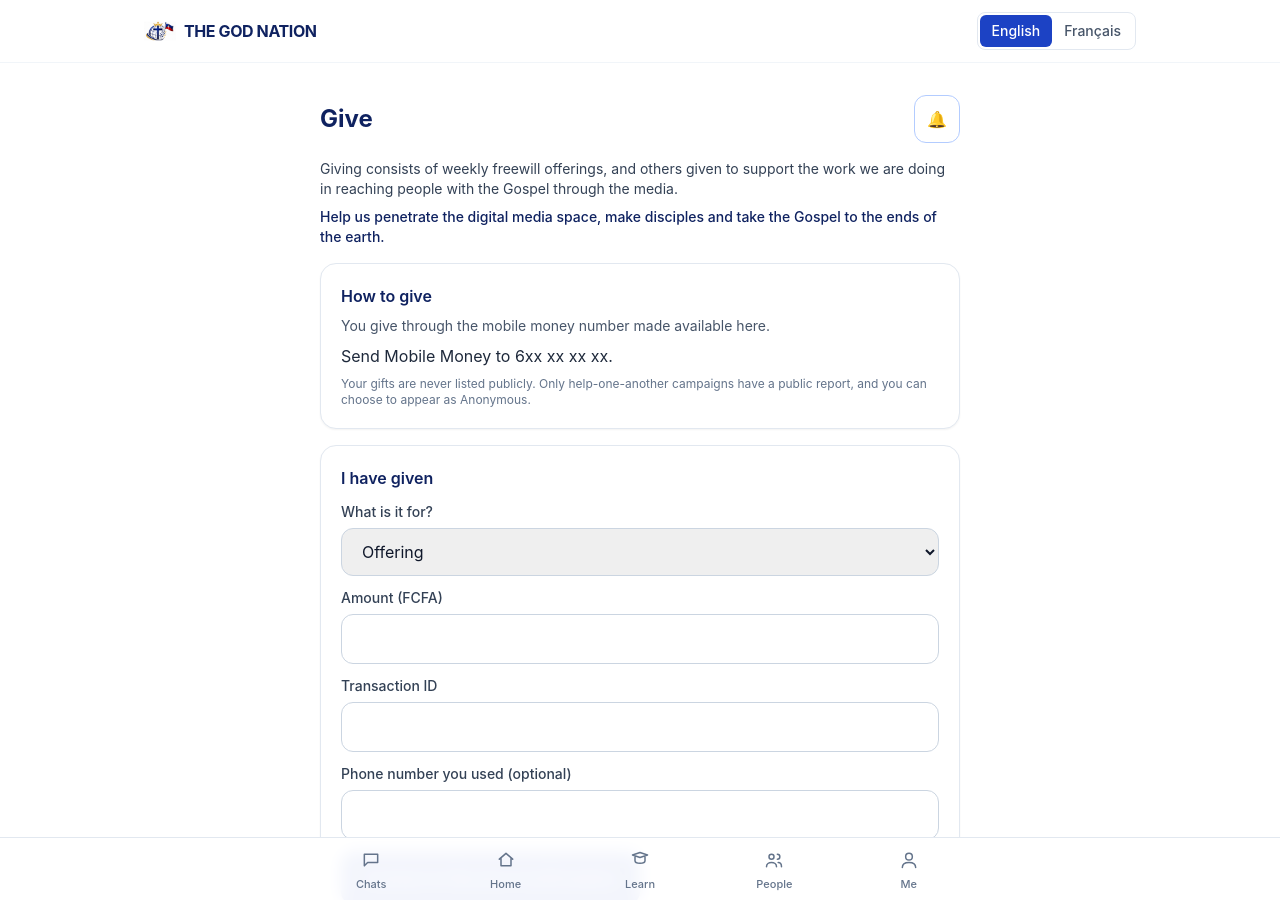
MemberGivePage — what it says › sends a new category, such as Seed Faith
Select "Seed Faith" in the dropdown labelled "What is it for?". click: (640, 552)
box: [341,528,939,576]
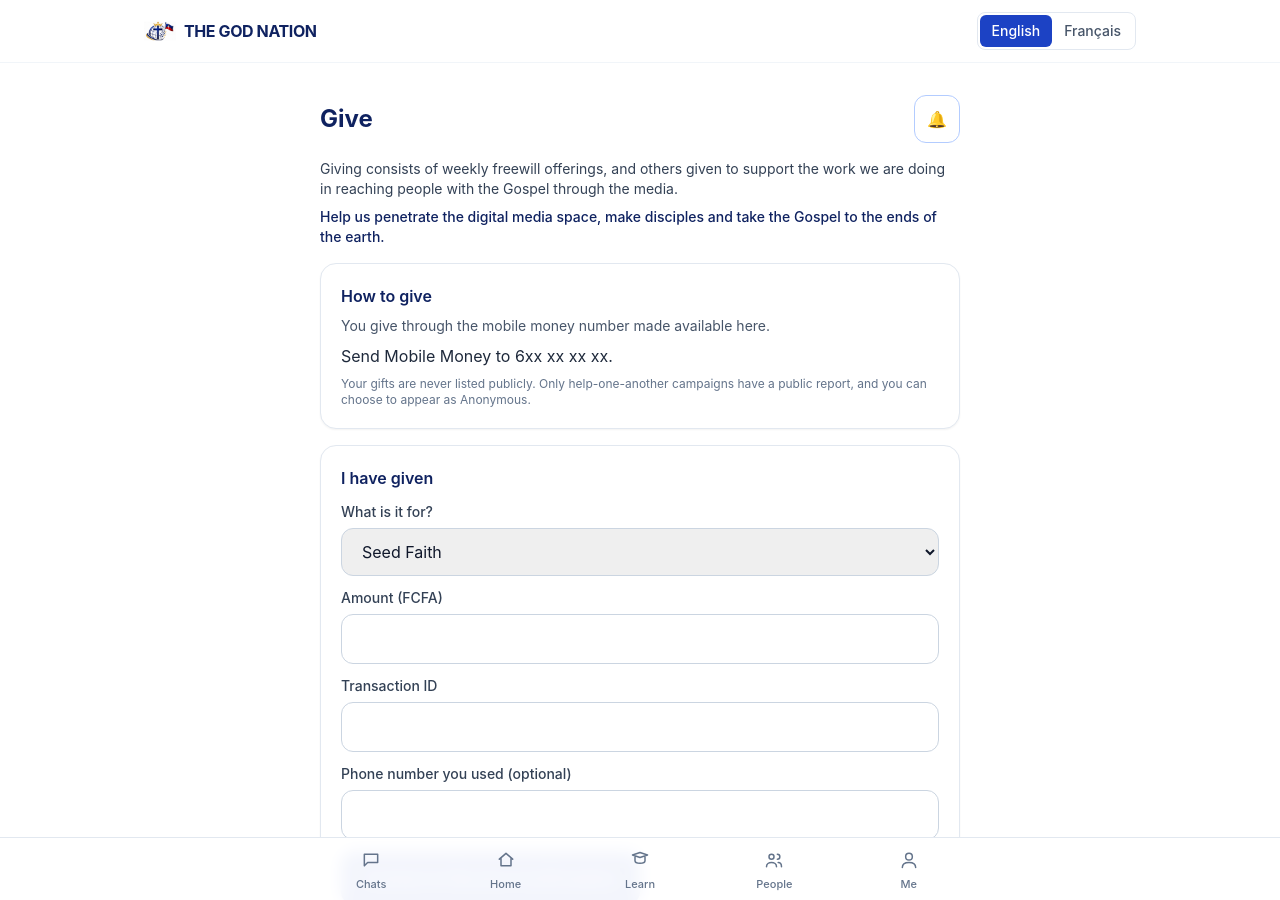
Type "2000" into the number field labelled "Amount (FCFA)". click: (640, 639)
box: [341,614,939,664]
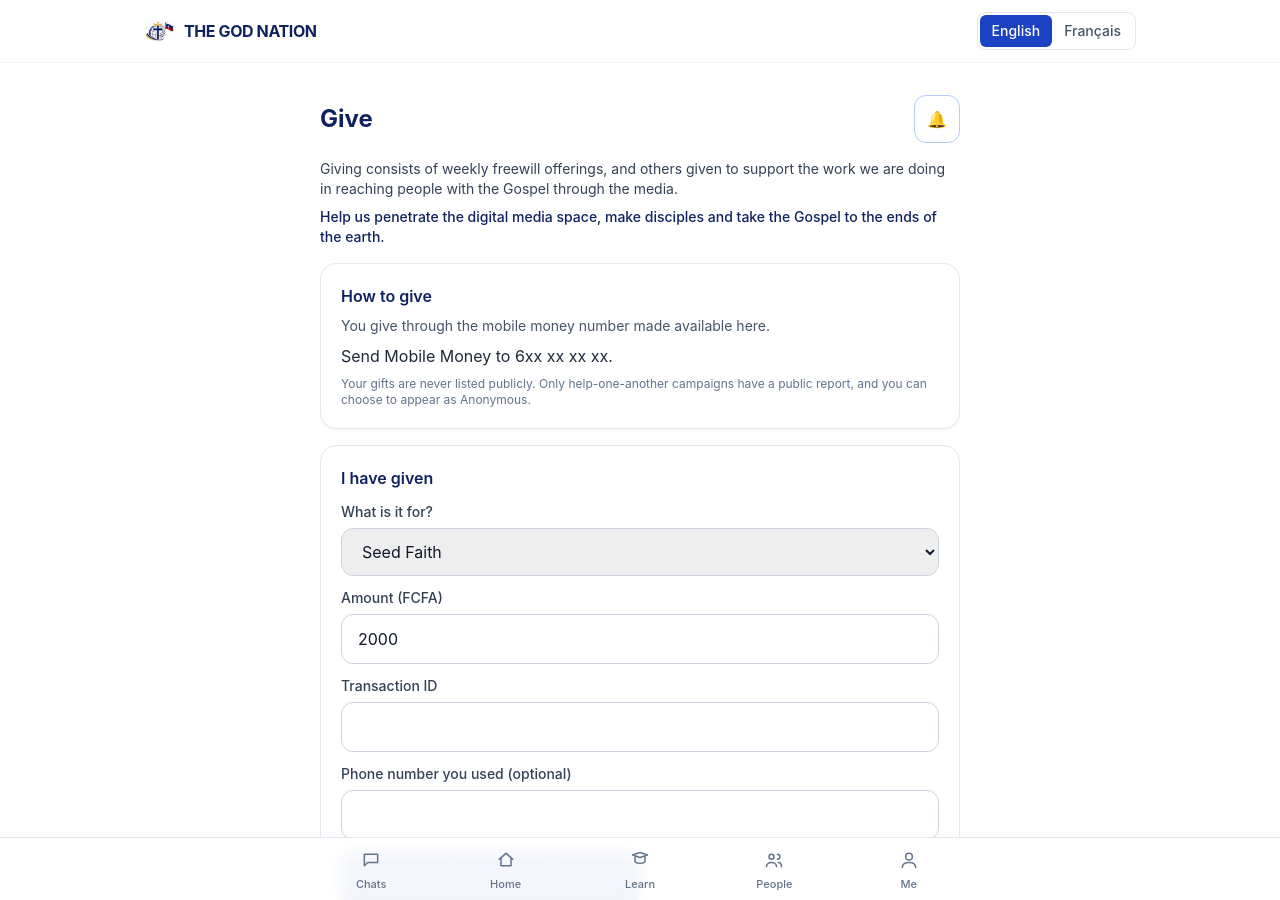
Type "MP555555" into the field labelled "Transaction ID". click: (640, 727)
box: [341,702,939,752]
(page scrolled)
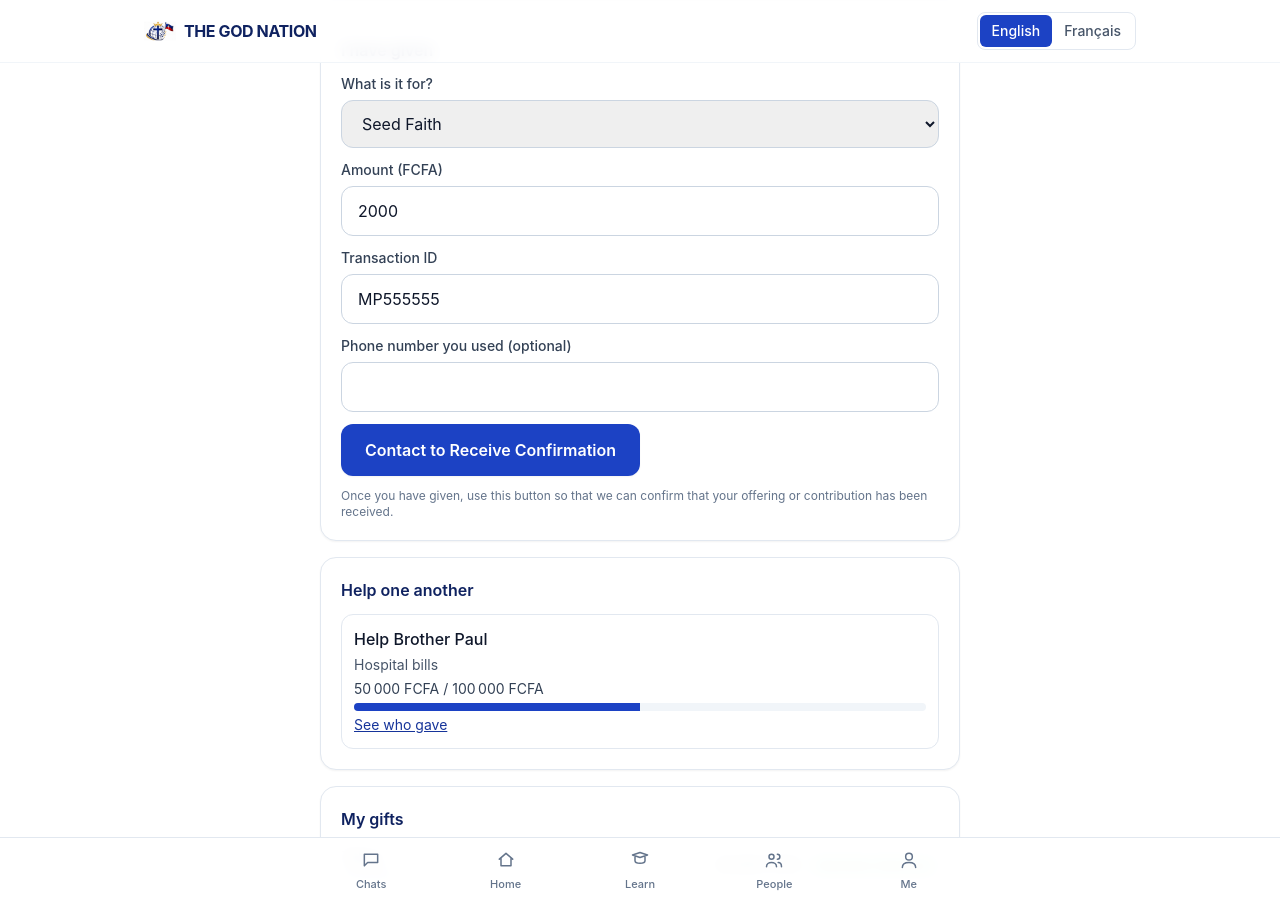
Click the button "Contact to Receive Confirmation". click: (490, 450)
box: [341,424,640,476]
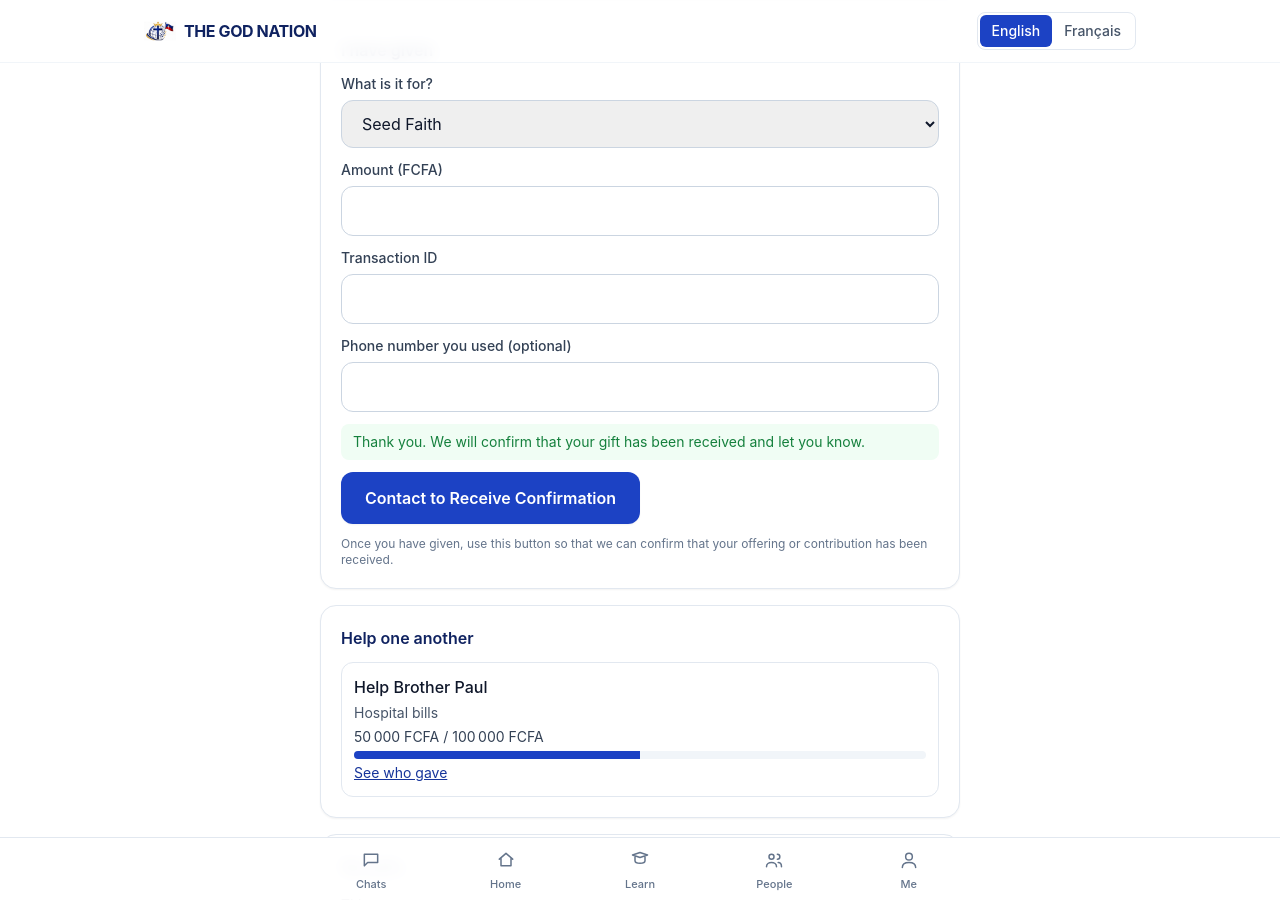
Expected: the text "Thank you. We will confirm that your gift has been received and let you know." is shown, [341,424,939,460]
